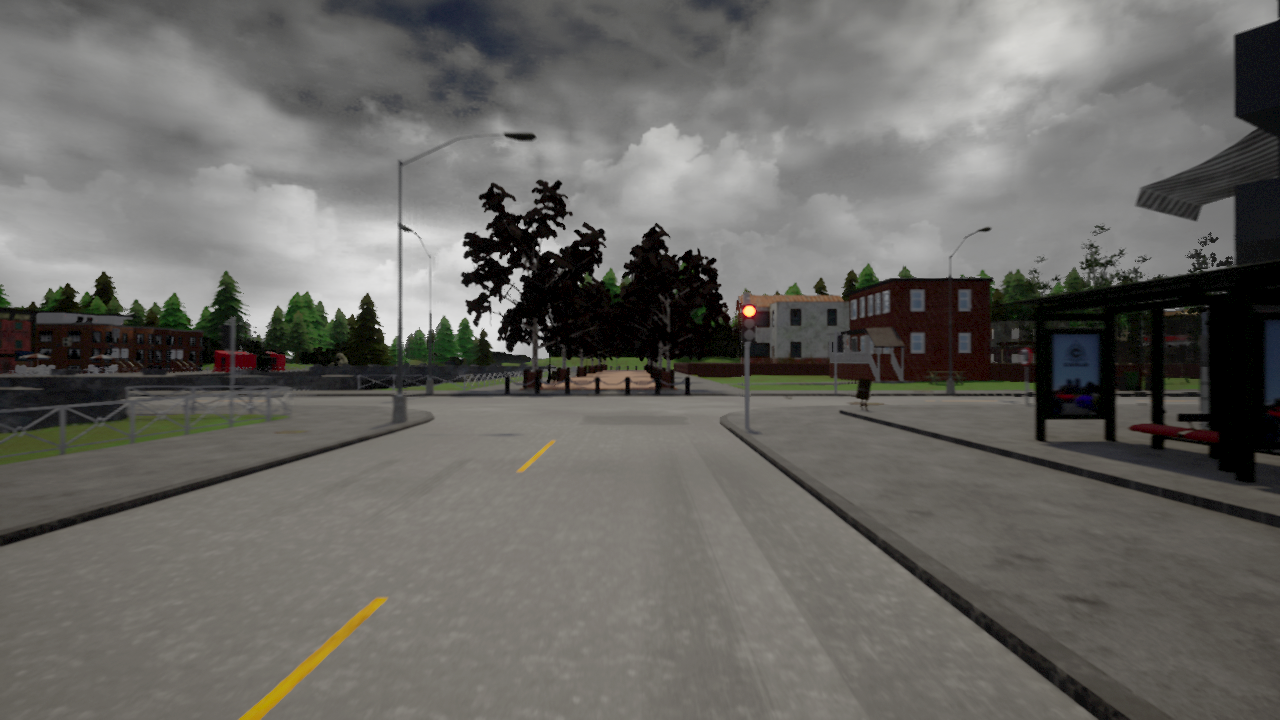red: (739, 303, 757, 344)
